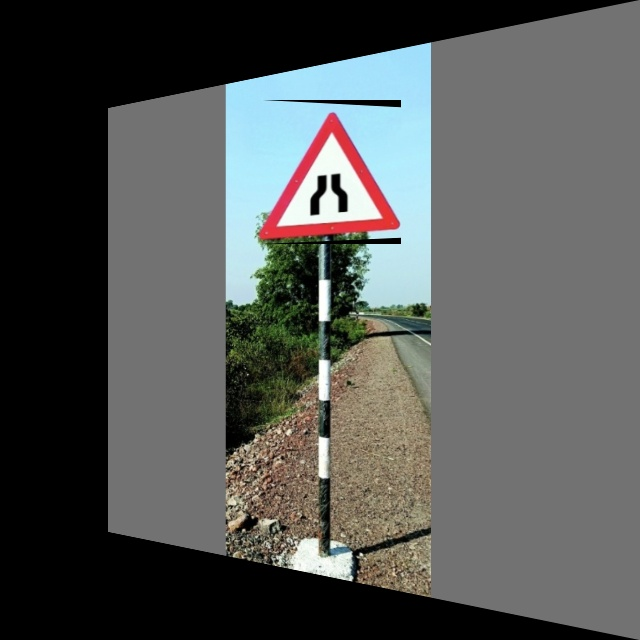Narrow_Road_Ahead: (262, 100, 401, 244)
